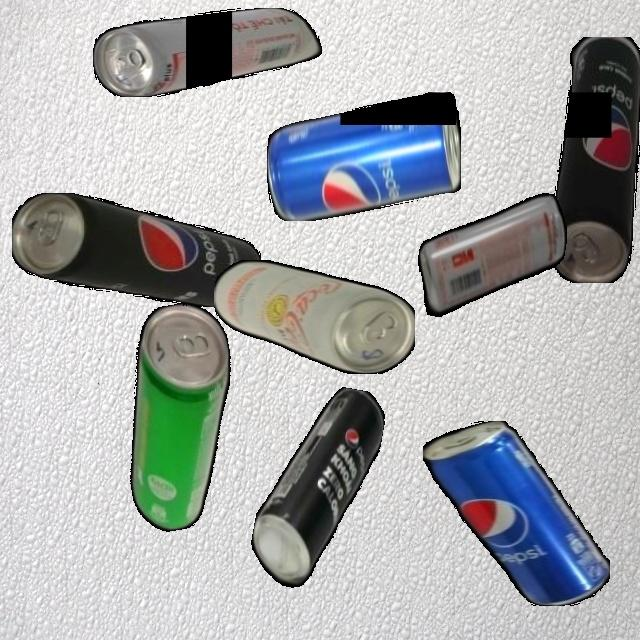debris: (102, 297, 258, 536), (422, 421, 610, 606), (244, 377, 389, 604), (12, 192, 261, 307), (409, 174, 574, 336), (266, 91, 461, 221), (213, 260, 415, 374), (549, 36, 640, 283), (93, 7, 322, 97)
